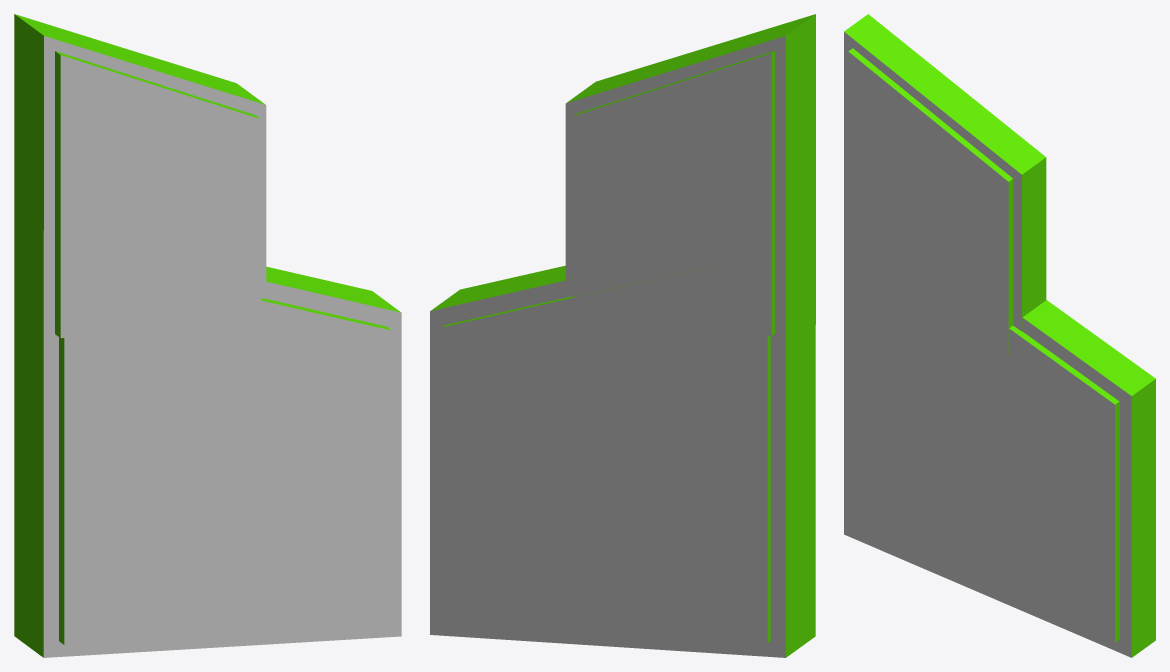
The model's file is altk_lv7.fbx.
3 views of the same model, side by side, from view 1: azimuth 30°, elevation 25°; view 2: azimuth 150°, elevation 25°; view 3: azimuth 330°, elevation 25° (orthographic). The views are drawn at different scales.
Visible parts, largest first — view 1: altk_lv7; view 2: altk_lv7; view 3: altk_lv7.
Boxes of the visible parts, x1,y1,x2,y2 form: altk_lv7: (14, 14, 401, 657); altk_lv7: (430, 14, 815, 657); altk_lv7: (844, 14, 1155, 657).
Size of the model in its own units: 103 by 189 by 19.81.
